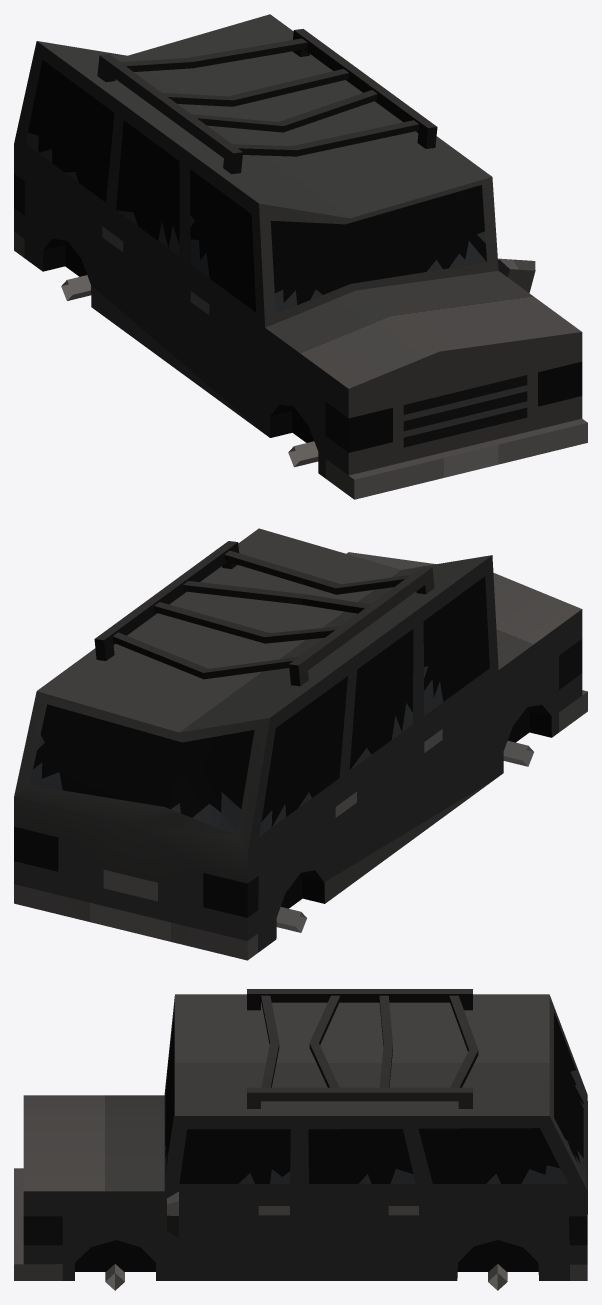
File: SA_Prop_BurntBlack_Car_01.glb
3 views of the same model, one above another, from view 1: azimuth 30°, elevation 25°; view 2: azimuth 150°, elevation 25°; view 3: azimuth 270°, elevation 25° (orthographic). The views are drawn at different scales.
Visible parts, largest first — view 1: SA_Prop_BurntBlack_Car_01; view 2: SA_Prop_BurntBlack_Car_01; view 3: SA_Prop_BurntBlack_Car_01.
Boxes of the visible parts, x1,y1,x2,y2 form: SA_Prop_BurntBlack_Car_01: (14, 14, 587, 499); SA_Prop_BurntBlack_Car_01: (14, 528, 587, 960); SA_Prop_BurntBlack_Car_01: (14, 989, 587, 1290).
Size of the model in its own units: 1.17 by 1.01 by 2.47.
1 material, 1 textured.
